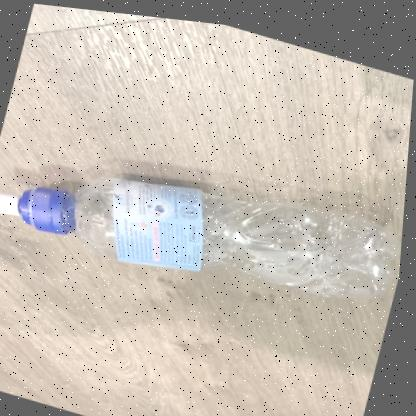Plastic: (0, 174, 403, 289)
